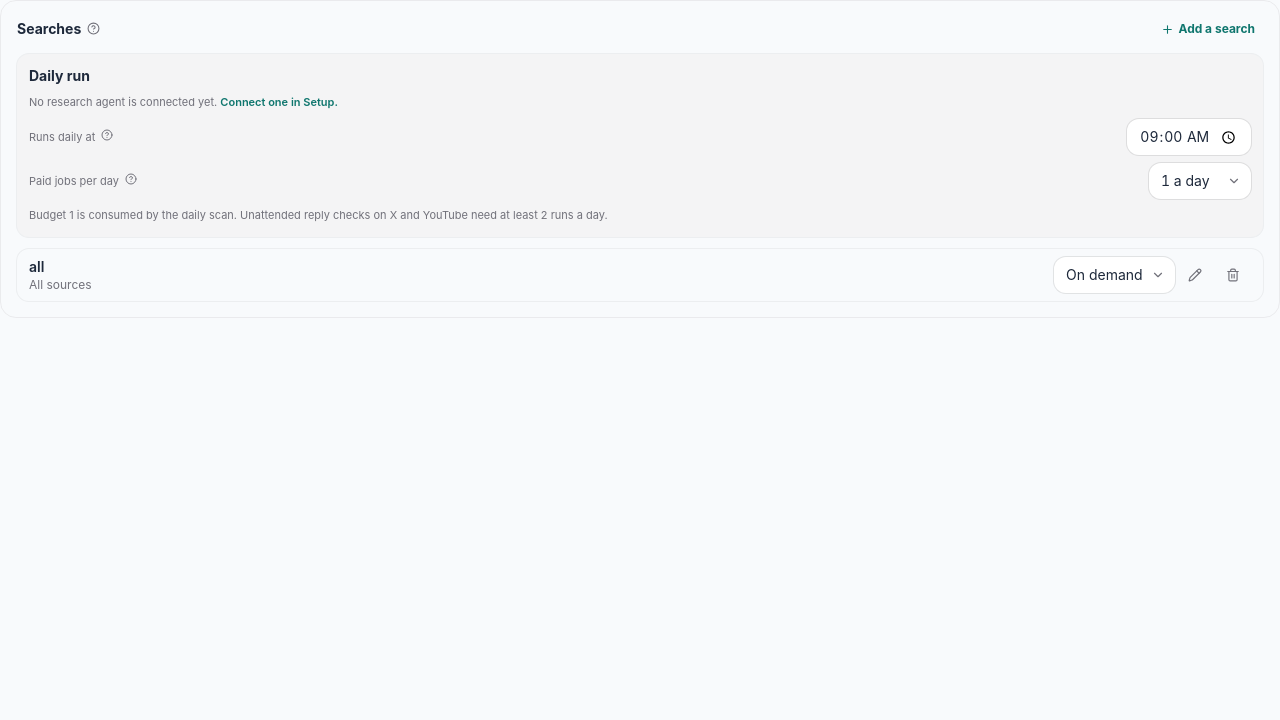
Test: RadarSearches query editor › an all-sources query offers Subreddits, Hashtags and the Warm up toggle
Click the button named "edit query".
click(1195, 275)  # box [1177, 257, 1213, 293]
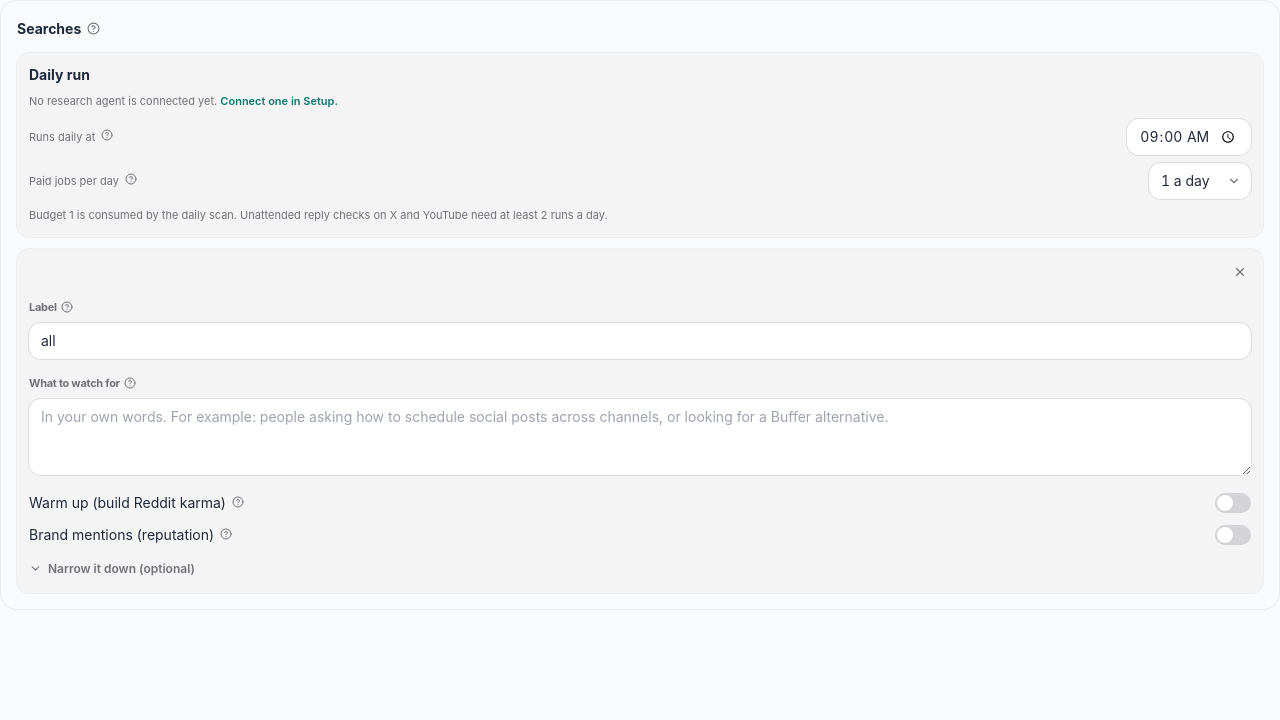
Check: the element with placeholder "socialmedia, marketing" is shown, box [29, 561, 195, 576]
Check: the switch named "warm up" is shown, box [1215, 493, 1251, 513]
